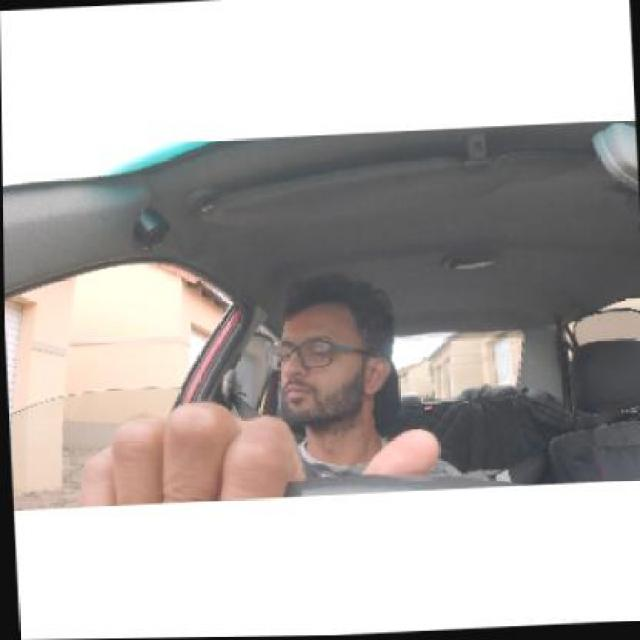drowsy: (269, 277, 397, 423)
